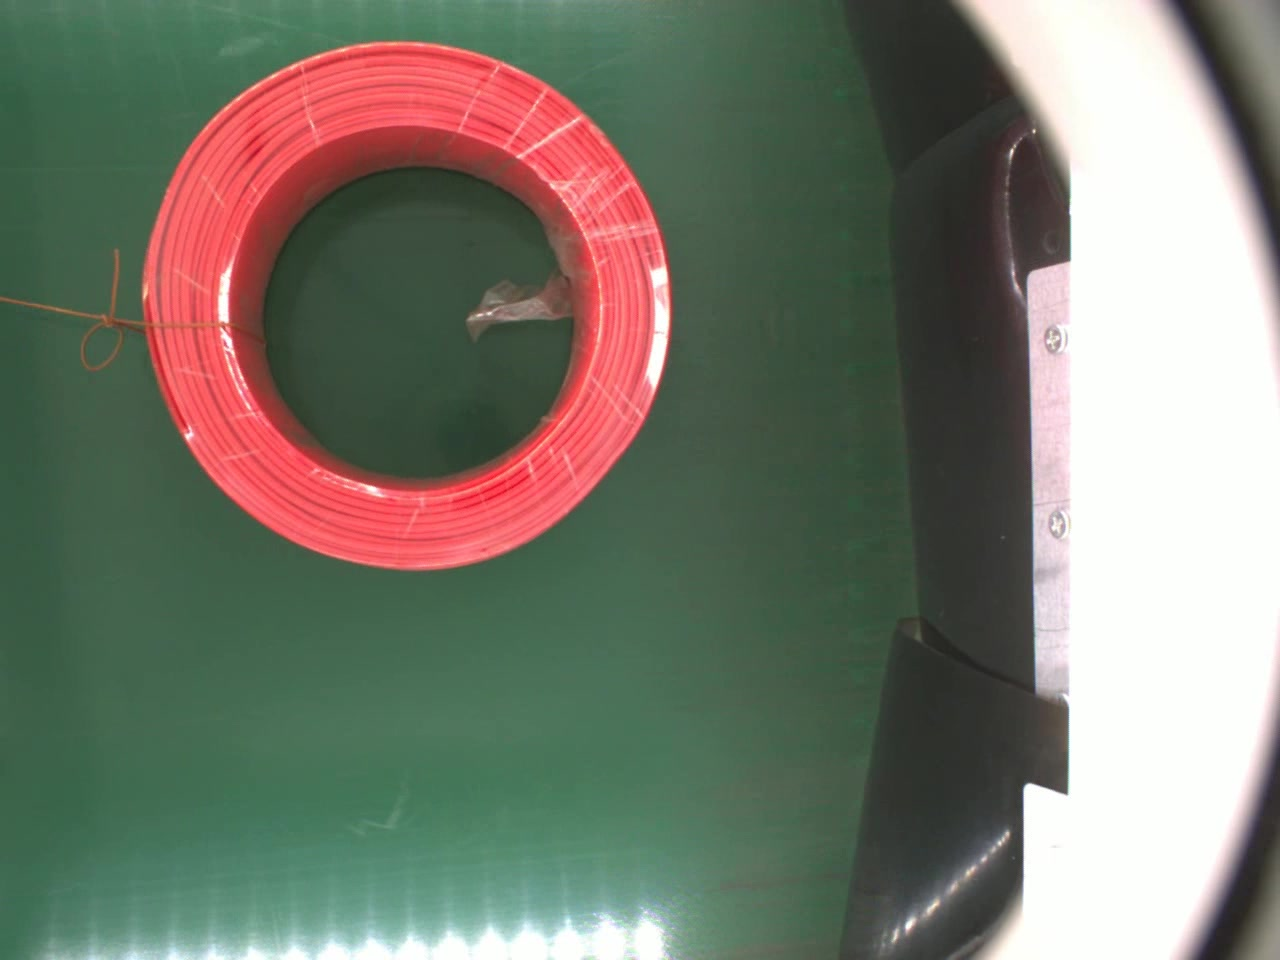red: (138, 34, 674, 575)
